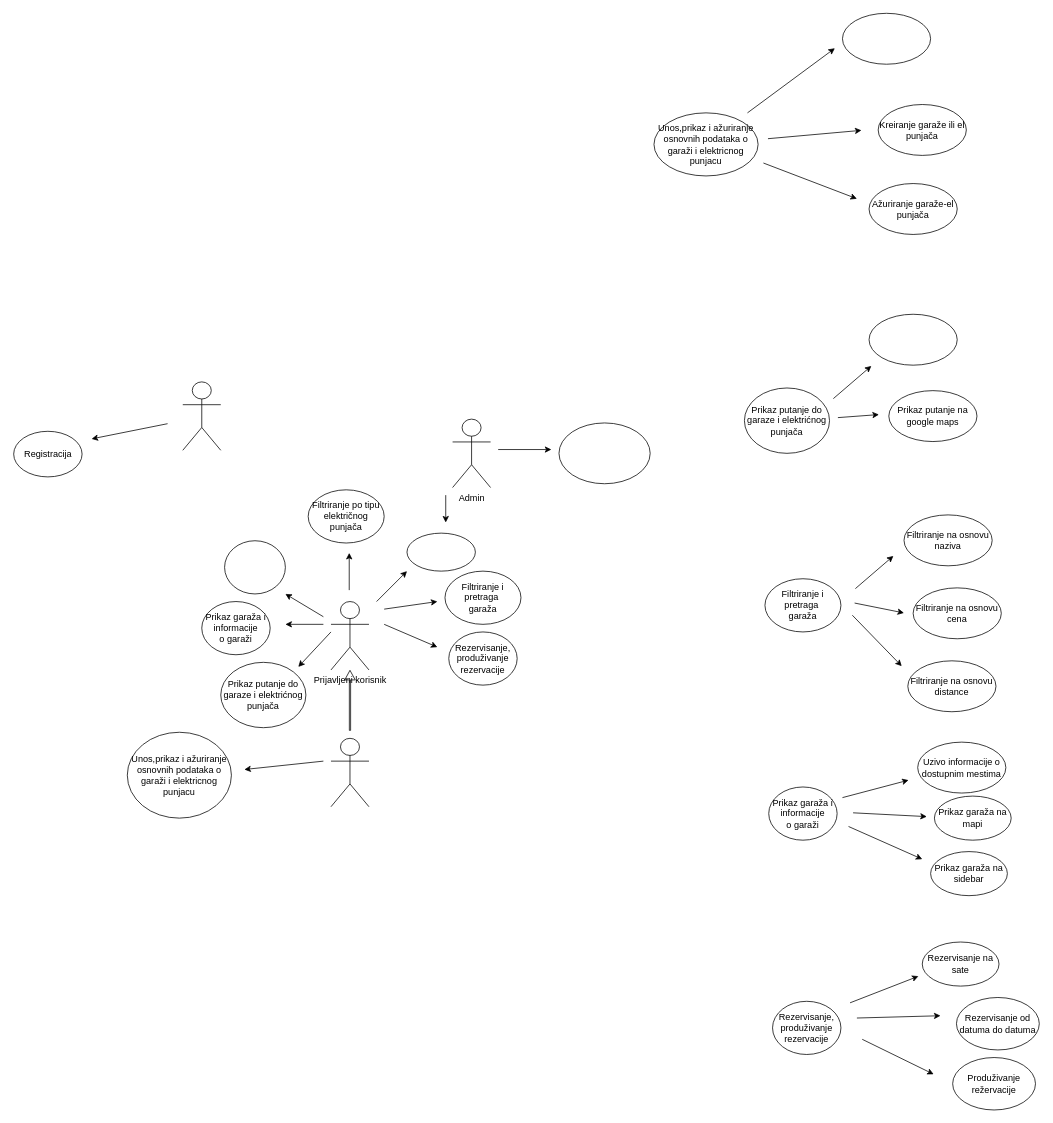
Image size: 1053x1123. Some labels were removed from this diagram. The box of each missing label's shape, as (x1, y1, x2, y2) in pixels:
Mapa za odabir lokacije: (842, 13, 931, 64)
Neregistrovan korisnik: (182, 381, 221, 450)
Prijavljivanje: (406, 532, 475, 571)
Prikaz garaže i električnog punjača, verifikovanje i odbijanje: (558, 422, 650, 484)
Prikaz putanje na sajtu: (868, 314, 957, 365)
Prikaz rezervija: (224, 540, 285, 594)
Vlasnik: (330, 738, 369, 807)
